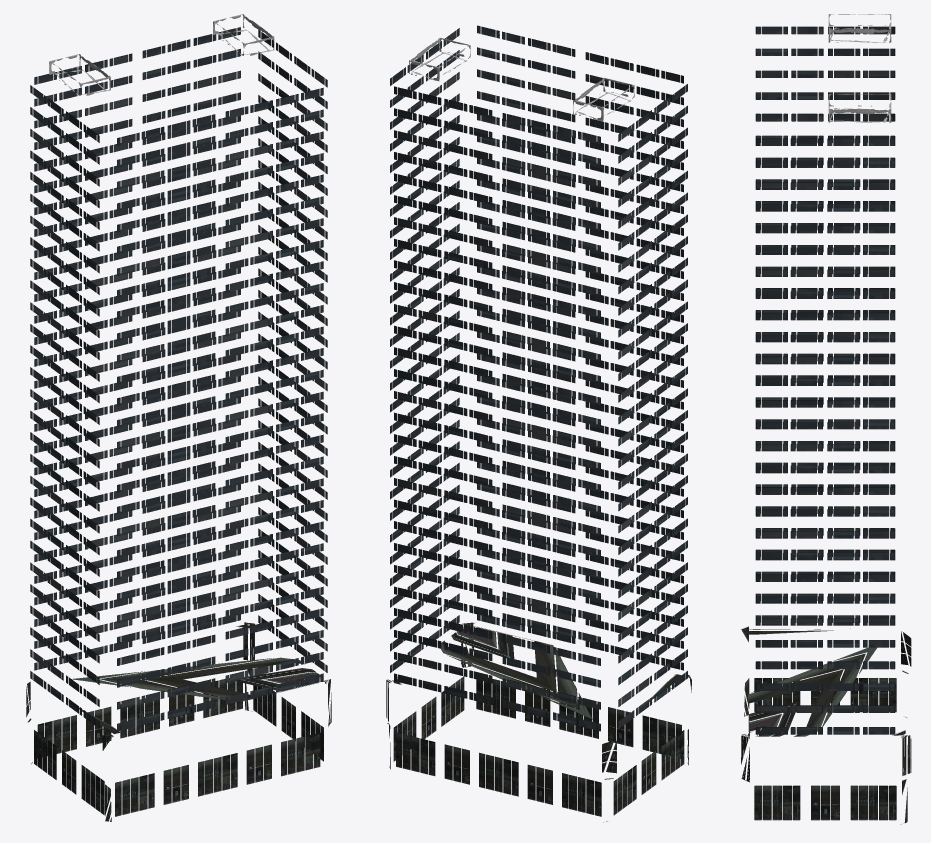
The model's file is si_building_17.fbx.
3 renders of one model, left to right at view 1: azimuth 30°, elevation 25°; view 2: azimuth 150°, elevation 25°; view 3: azimuth 270°, elevation 25°, orthographic.
Visible parts, largest first — view 1: si_building_17; view 2: si_building_17; view 3: si_building_17.
Boxes of the visible parts, x1,y1,x2,y2 form: si_building_17: (26,14,331,821); si_building_17: (386,25,691,822); si_building_17: (741,14,911,824).
Size of the model in its own units: 87.5 by 244 by 57.
Materials: 1 (1 with a texture image).
